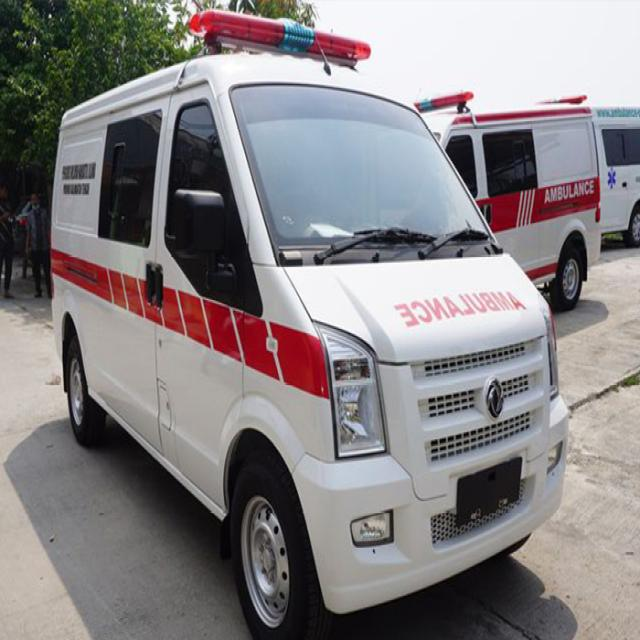ambulance: (48, 10, 571, 640)
